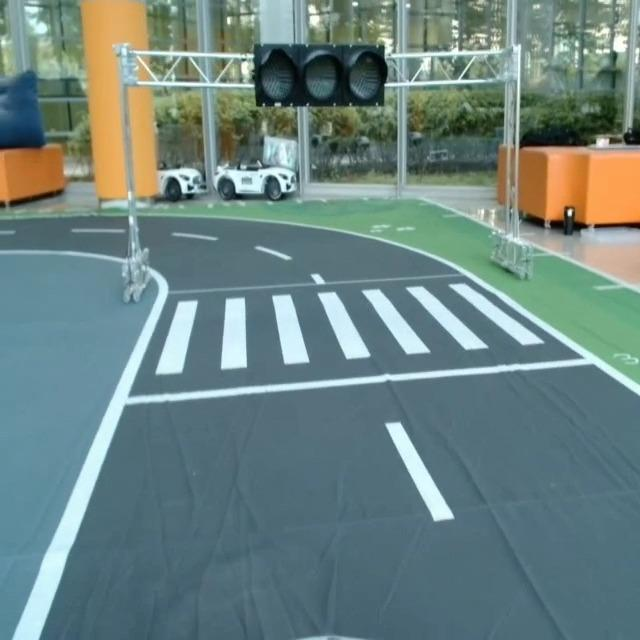traffic-light: (250, 45, 394, 108)
